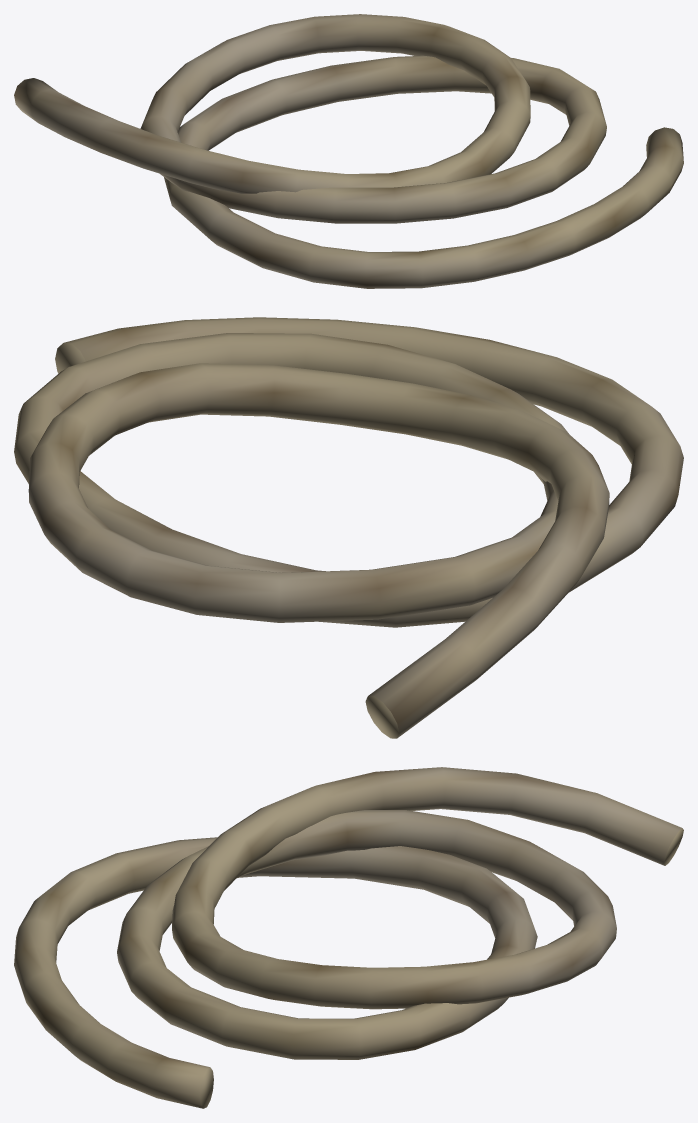
The model's file is Rope_2.glb.
3 views of the same model, one above another, from view 1: azimuth 30°, elevation 25°; view 2: azimuth 150°, elevation 25°; view 3: azimuth 270°, elevation 25° (orthographic). The views are drawn at different scales.
Parts seen in each view (by area): view 1: Rope_2; view 2: Rope_2; view 3: Rope_2.
Boxes of the visible parts, x1,y1,x2,y2 form: Rope_2: (14, 14, 683, 288); Rope_2: (14, 317, 683, 738); Rope_2: (14, 767, 683, 1108).
Bounding box in the file's own units: 0.8078 × 0.1236 × 0.845.
